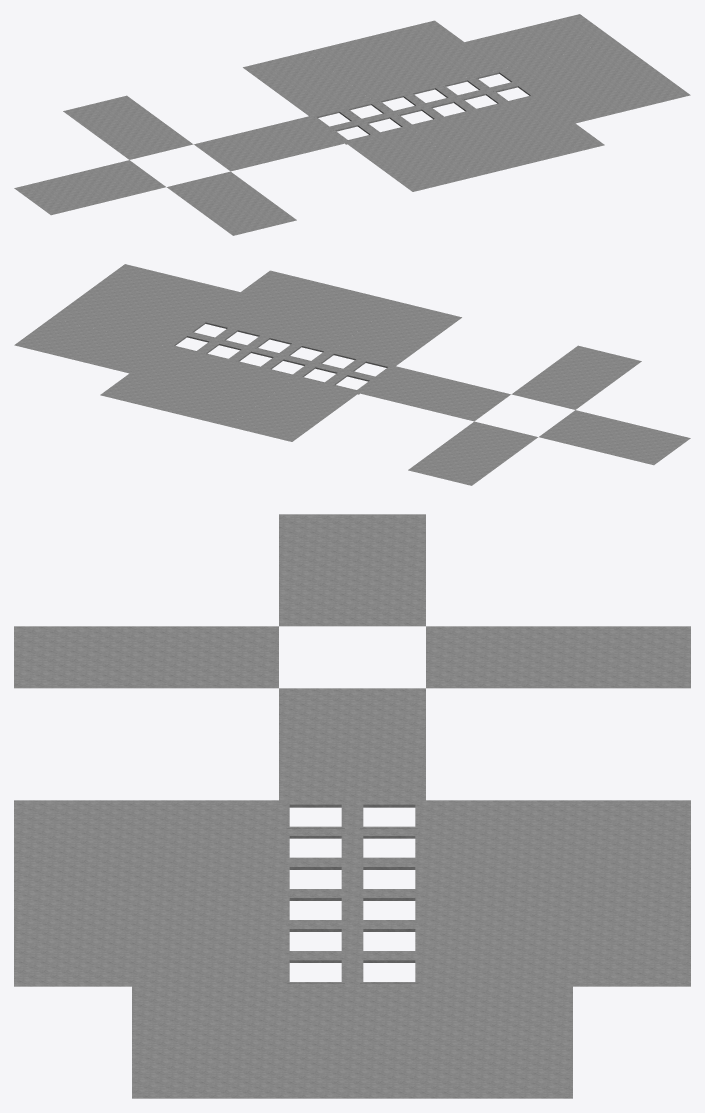
File: TestMap2_Floor_New.FBX
The picture shows the model from 3 angles, top to bottom: view 1: azimuth 30°, elevation 25°; view 2: azimuth 150°, elevation 25°; view 3: azimuth 270°, elevation 25°; orthographic projection. The views are drawn at different scales.
Visible parts, largest first — view 1: TestMap2_Floor; view 2: TestMap2_Floor; view 3: TestMap2_Floor.
Boxes of the visible parts, x1=… form: TestMap2_Floor: x1=14, y1=14, x2=690, y2=235; TestMap2_Floor: x1=14, y1=264, x2=690, y2=485; TestMap2_Floor: x1=14, y1=514, x2=690, y2=1098.
Size of the model in its own units: 12933 by 29.76 by 6330.
1 material, 1 textured.
